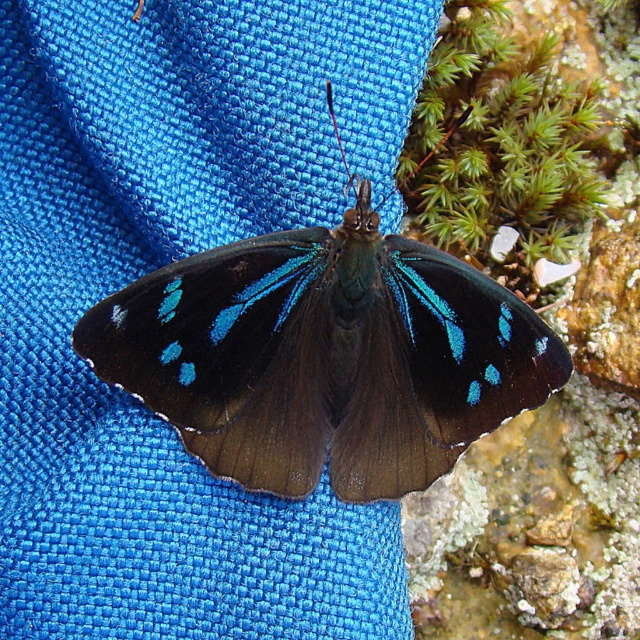Butterfly: (75, 99, 568, 519)
